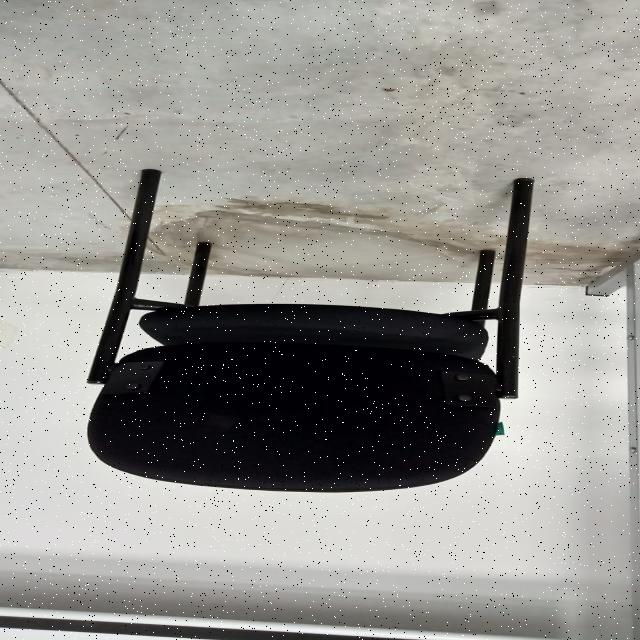bottle: (71, 173, 558, 497)
